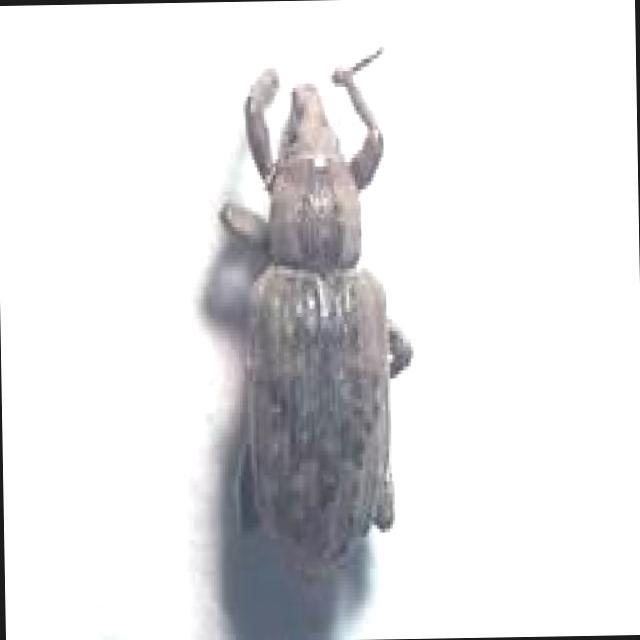ricebug: (221, 56, 412, 619)
